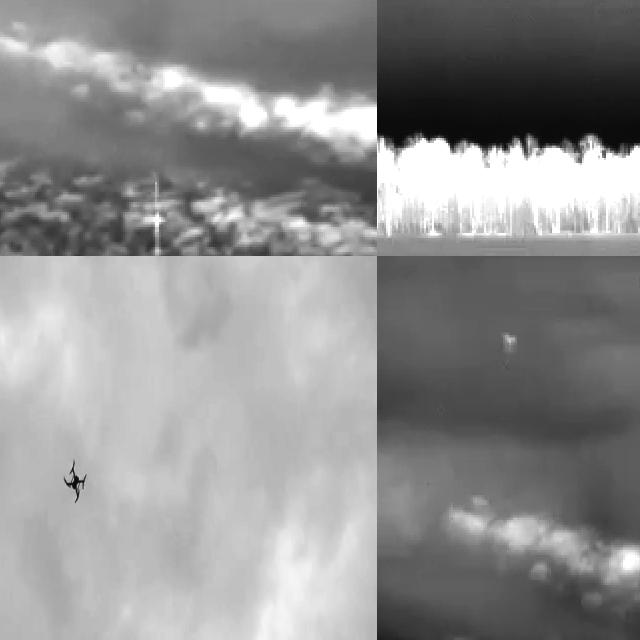0: (489, 315, 525, 363)
drone: (62, 453, 88, 499)
